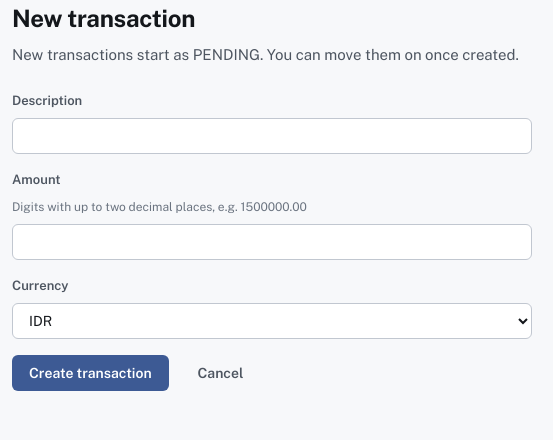
Test case: NewTransactionPage › blocks an obviously invalid amount before hitting the API
In the field labelled "Description": (272, 136) [12,118,532,154], type "Invoice payment"
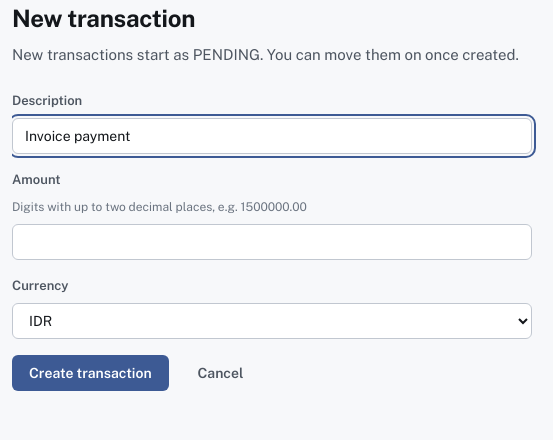
In the field labelled "Amount": (272, 242) [12,224,532,260], type "0"
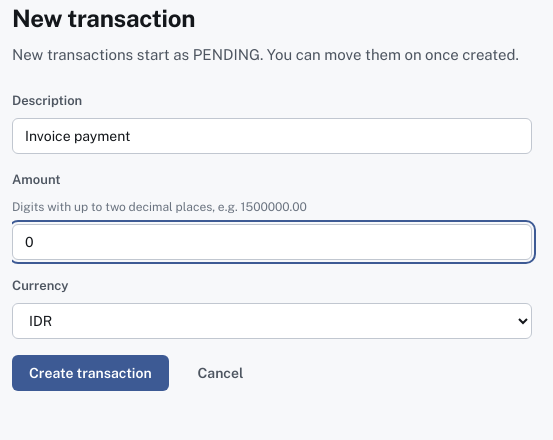
Click the button "Create transaction": click(90, 373) [12,355,169,391]
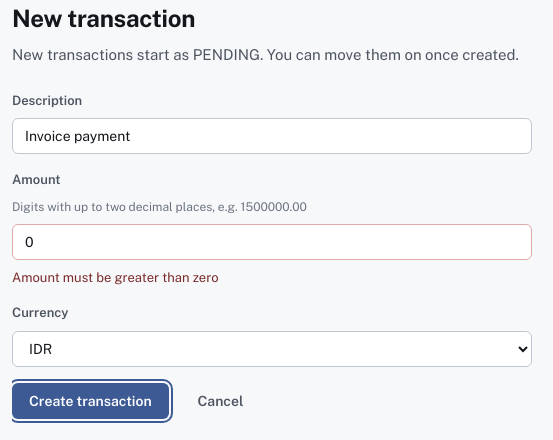
Expected: the message shows "greater than zero", [12,270,218,284]
